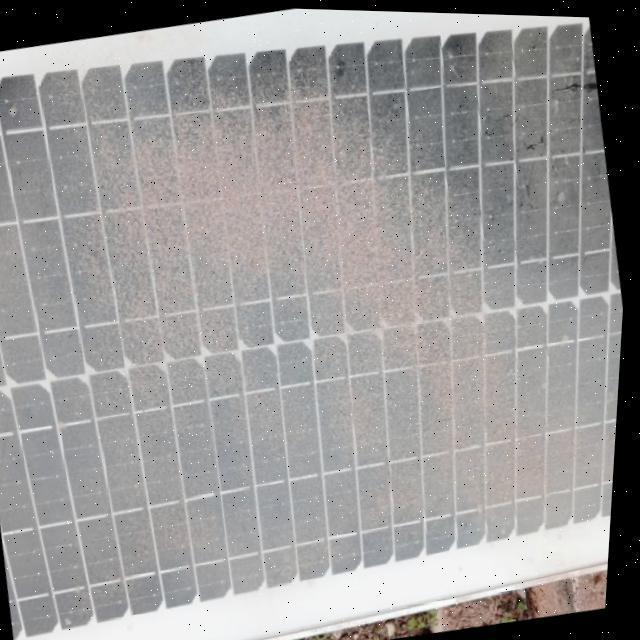Anomaly Solar Panel: (0, 0, 640, 640)
Surface Contaminant: (0, 18, 626, 640)
